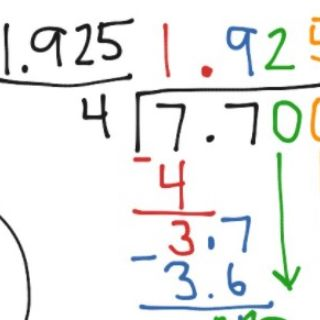.: (197, 61, 215, 80), (203, 232, 218, 252), (203, 133, 217, 145), (20, 64, 28, 76), (208, 289, 215, 301)
0: (269, 96, 305, 145)
1: (159, 20, 176, 82), (1, 22, 16, 77)
2: (263, 25, 297, 72), (73, 22, 96, 68)
3: (161, 258, 198, 302), (165, 216, 197, 258)
4: (155, 159, 193, 210), (78, 92, 116, 142)
5: (97, 16, 138, 63)
6: (223, 259, 250, 298)
7: (222, 97, 264, 148), (153, 99, 188, 154), (218, 214, 257, 254)
9: (224, 21, 259, 78), (28, 22, 67, 70)
